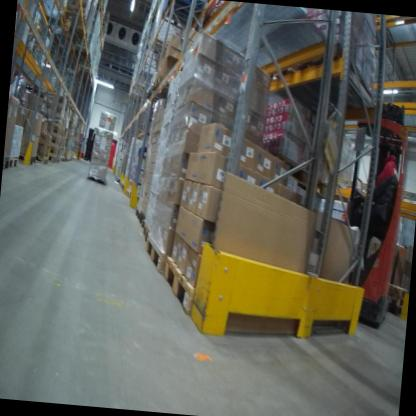forklift: (309, 71, 415, 332)
pallet: (159, 255, 303, 340), (142, 233, 170, 280), (161, 0, 215, 22), (145, 82, 174, 103), (152, 72, 176, 97), (58, 2, 88, 21), (62, 27, 90, 47), (387, 290, 407, 310), (19, 149, 40, 167), (138, 222, 152, 248), (389, 281, 408, 298), (35, 151, 51, 168), (124, 187, 137, 205), (9, 151, 20, 171), (139, 213, 150, 232), (133, 206, 142, 226), (3, 156, 10, 173)
